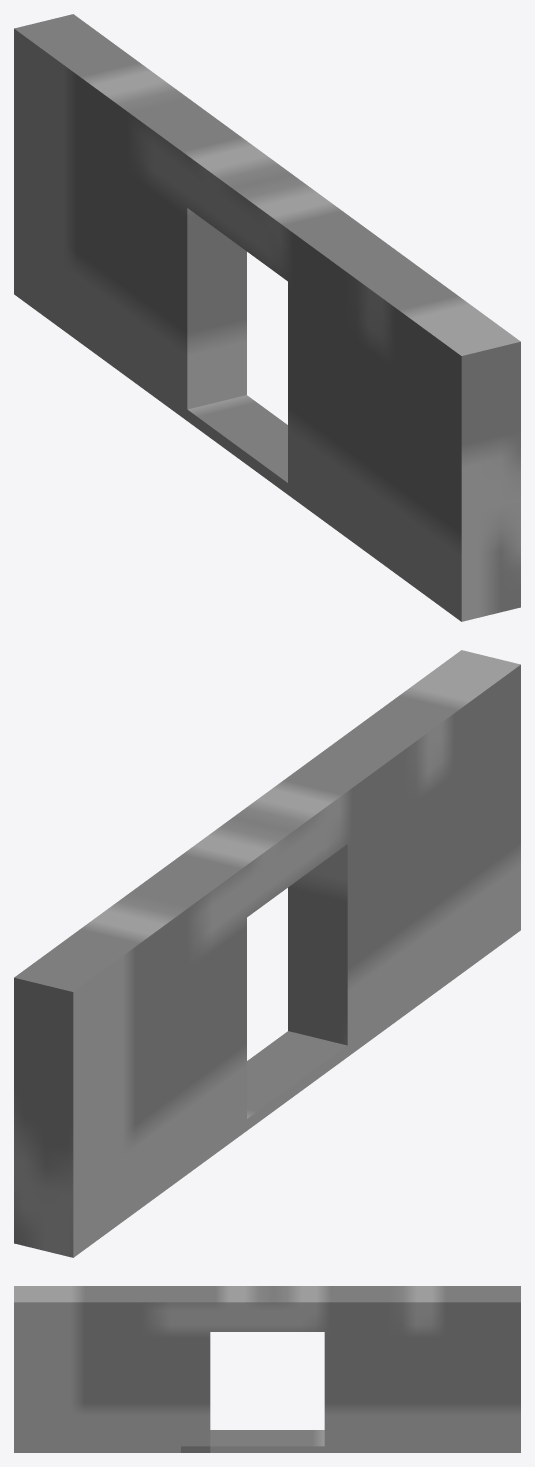
The model's file is wall_SpawnExit.fbx.
The picture shows the model from 3 angles, top to bottom: view 1: azimuth 30°, elevation 25°; view 2: azimuth 150°, elevation 25°; view 3: azimuth 270°, elevation 25°; orthographic projection. The views are drawn at different scales.
Parts seen in each view (by area): view 1: wall_SpawnExit; view 2: wall_SpawnExit; view 3: wall_SpawnExit.
Boxes of the visible parts, box(x1,y1,x2,y2) form: wall_SpawnExit: box(14, 14, 520, 621); wall_SpawnExit: box(14, 650, 520, 1257); wall_SpawnExit: box(14, 1286, 520, 1452).
Bounding box in the file's own units: 318 × 1360 × 4152.
